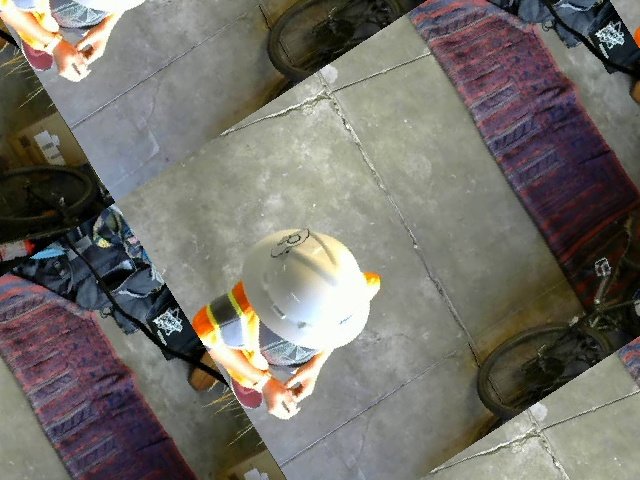eight: (263, 220, 314, 263)
